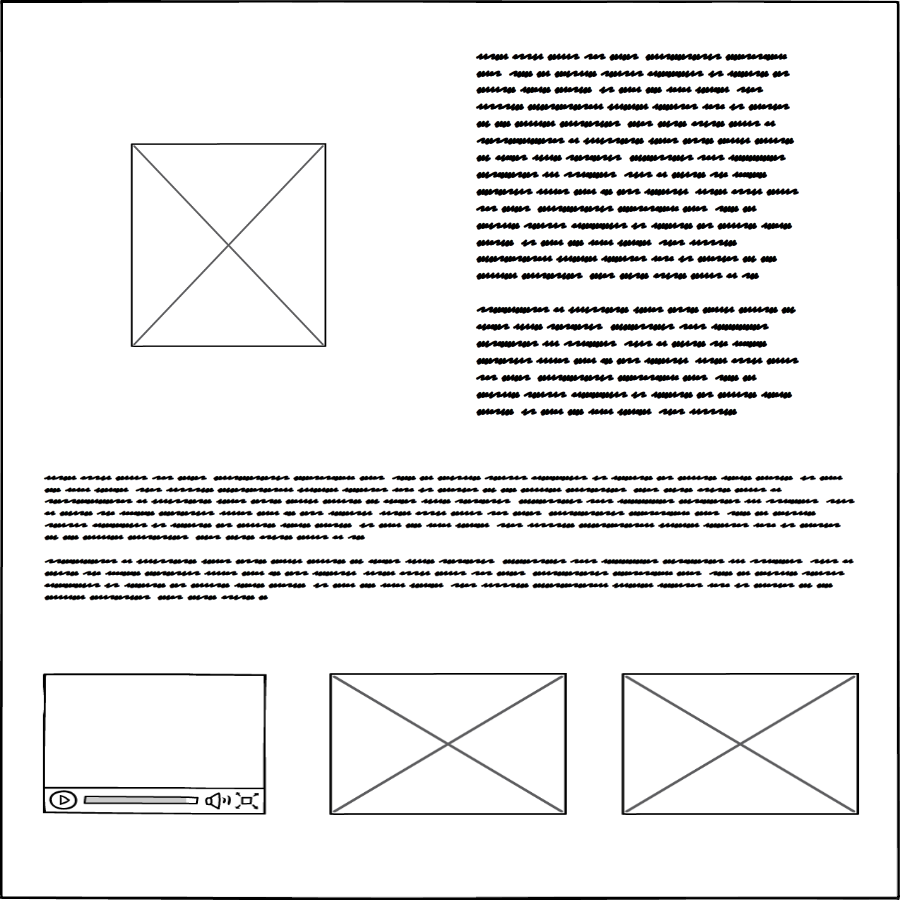image: (124, 140, 330, 352), (323, 669, 574, 823), (619, 669, 867, 819)
p: (468, 45, 820, 425), (34, 470, 861, 599)
video: (33, 666, 272, 819)
